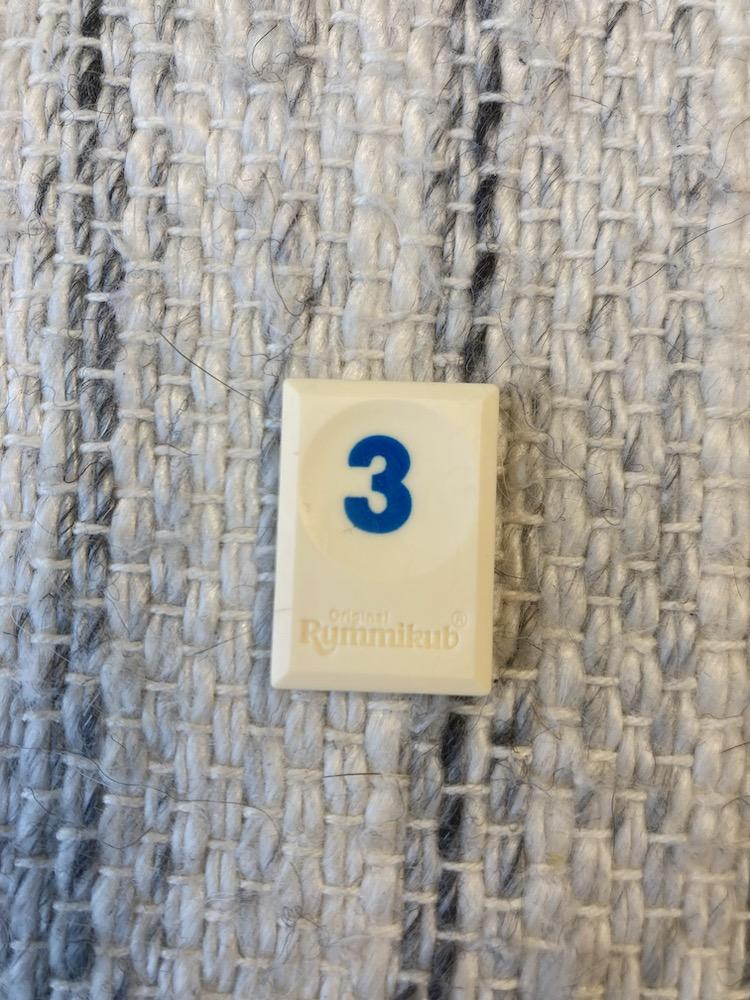blue_3: (271, 379, 498, 695)
